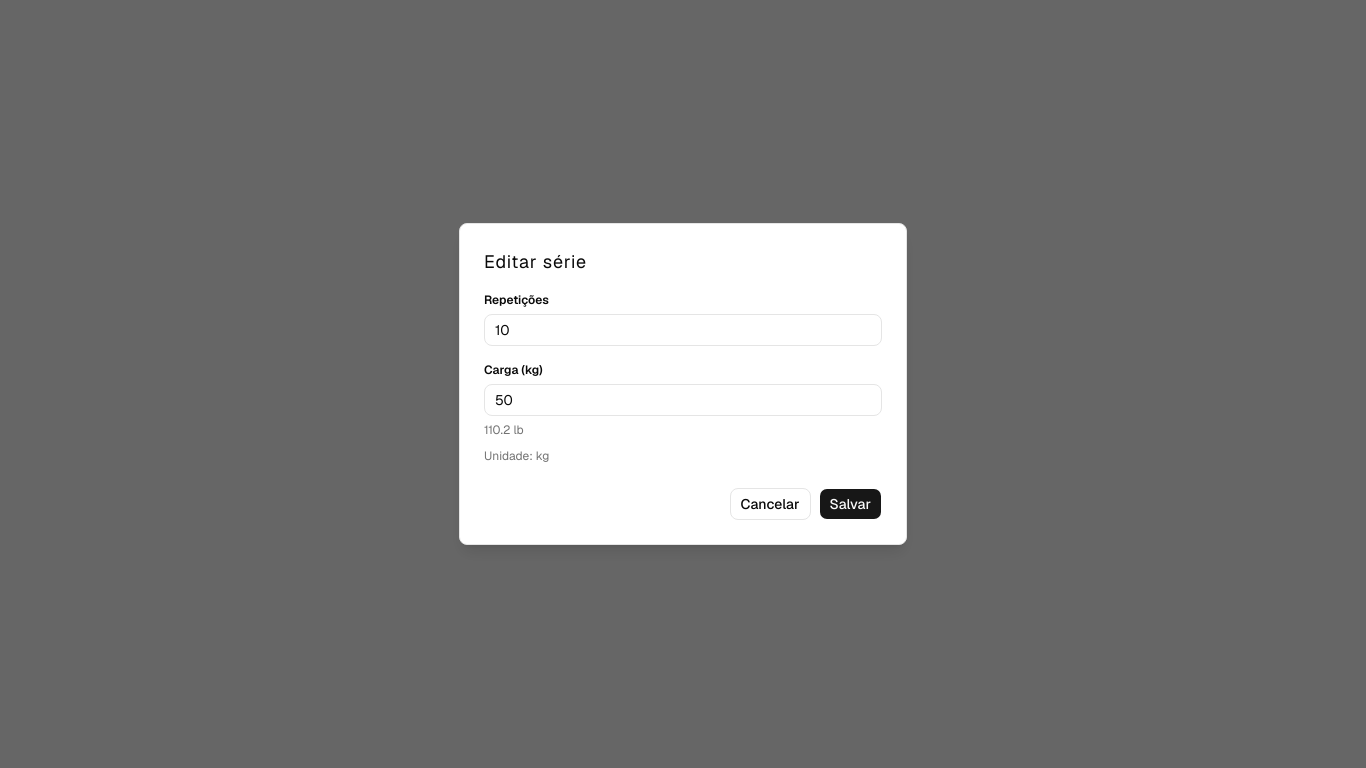
Scenario: SeriesEditModal — paridade com a manutenção (replano TASK-001 — RED) › modal aberto com mensagem visível no erro (validação e persistência, sem fechar)
The width and height of the screenshot is (1366, 768).
Replace the text in the field labelled "Carga (kg)" with "abc" at (683, 400), box [484,384,882,416]
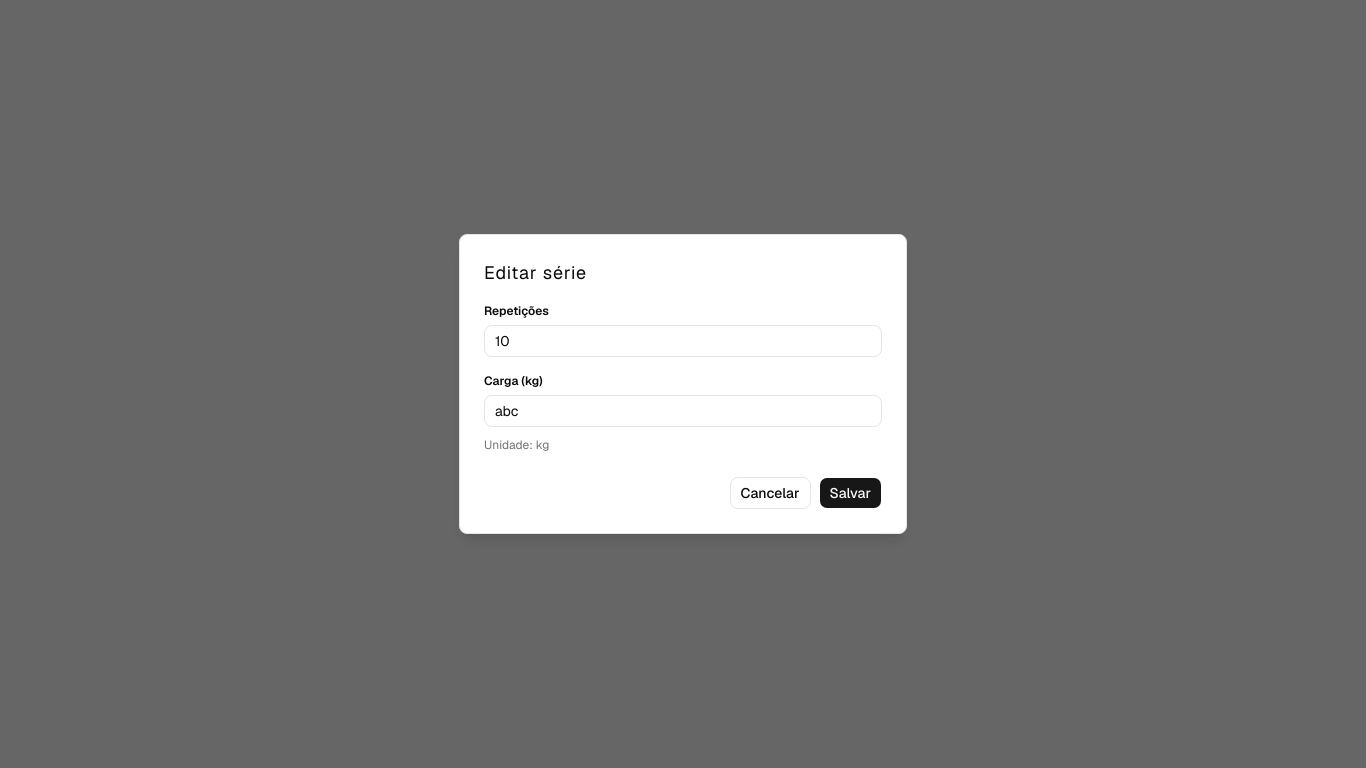
Click the button "Salvar" at (850, 493), box [818,477,882,509]
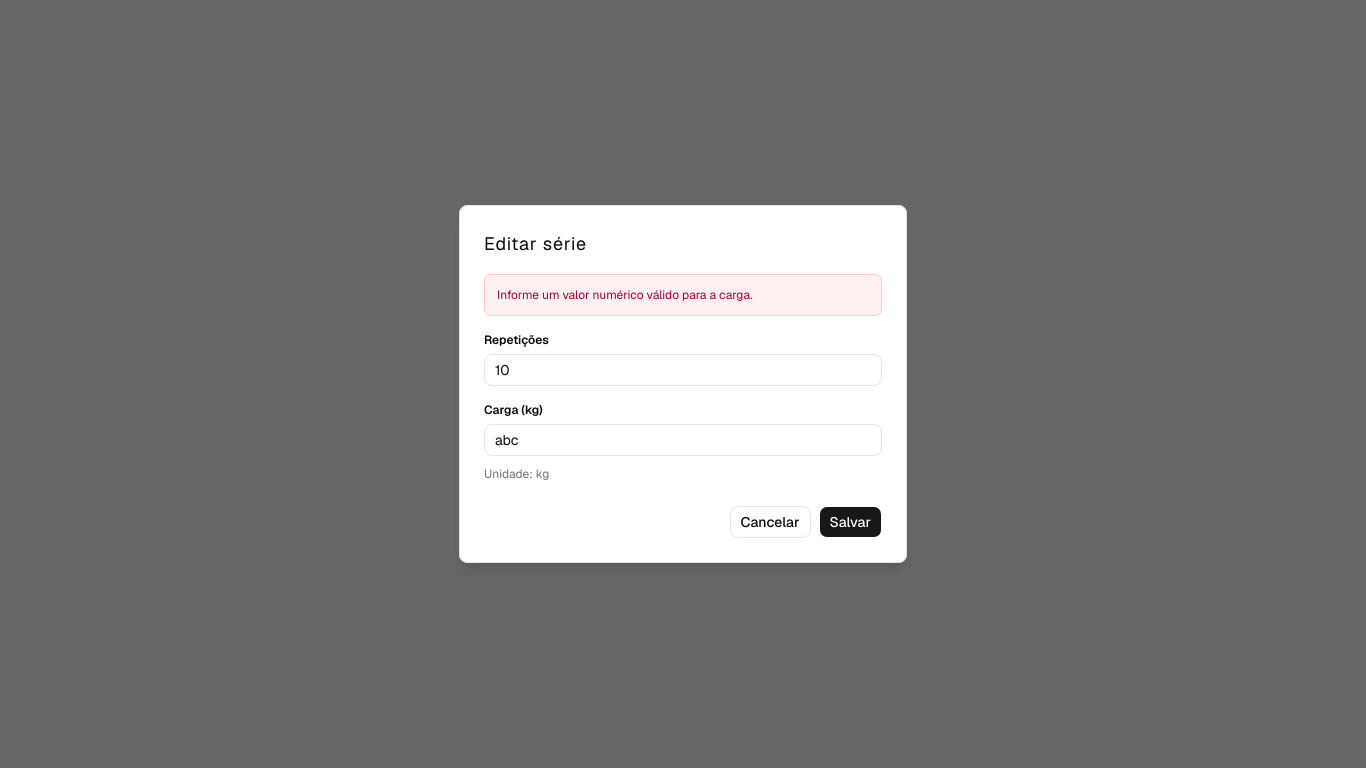
Check: the button "Salvar" is shown, box [818,506,882,538]
Check: the text "Informe um valor numérico válido para a carga." is shown, box [484,274,882,316]
